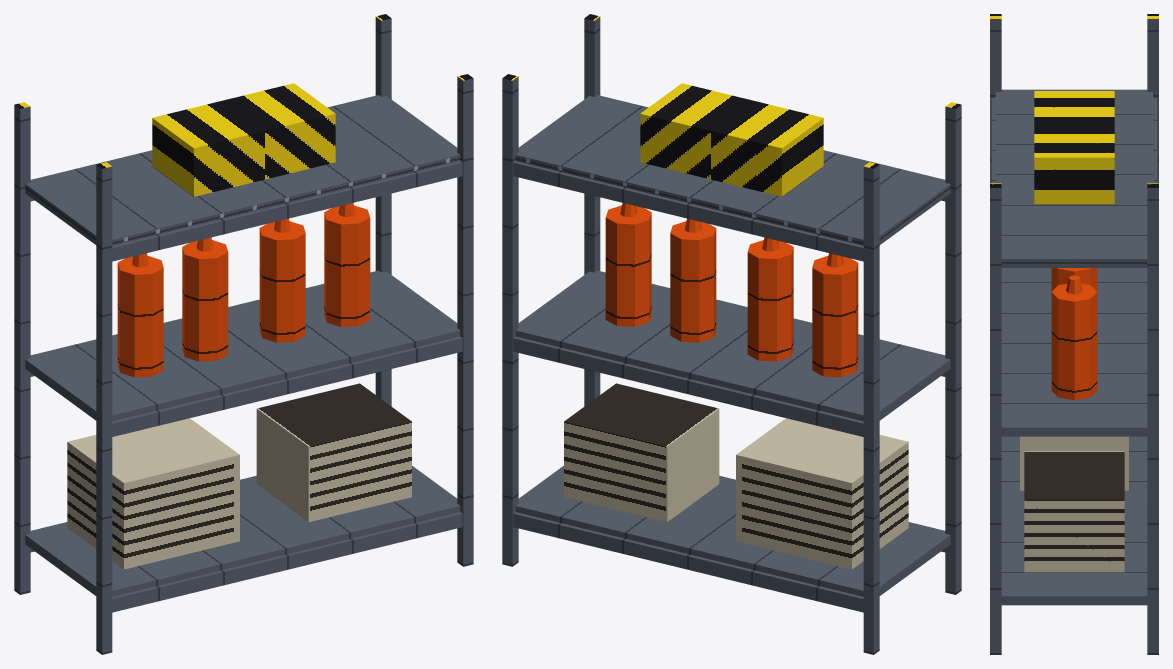
File: hangar_shelf.glb
3 renders of one model, left to right at view 1: azimuth 30°, elevation 25°; view 2: azimuth 150°, elevation 25°; view 3: azimuth 270°, elevation 25°, orthographic. The views are drawn at different scales.
Parts seen in each view (by area): view 1: hangar_shelf; view 2: hangar_shelf; view 3: hangar_shelf.
Part boxes in pixels (x1=…): hangar_shelf: x1=14, y1=14, x2=473, y2=654; hangar_shelf: x1=502, y1=14, x2=961, y2=654; hangar_shelf: x1=990, y1=14, x2=1158, y2=654.
Size of the model in its own units: 1.44 by 1.8 by 0.59.
Materials: 4 (4 with a texture image).
